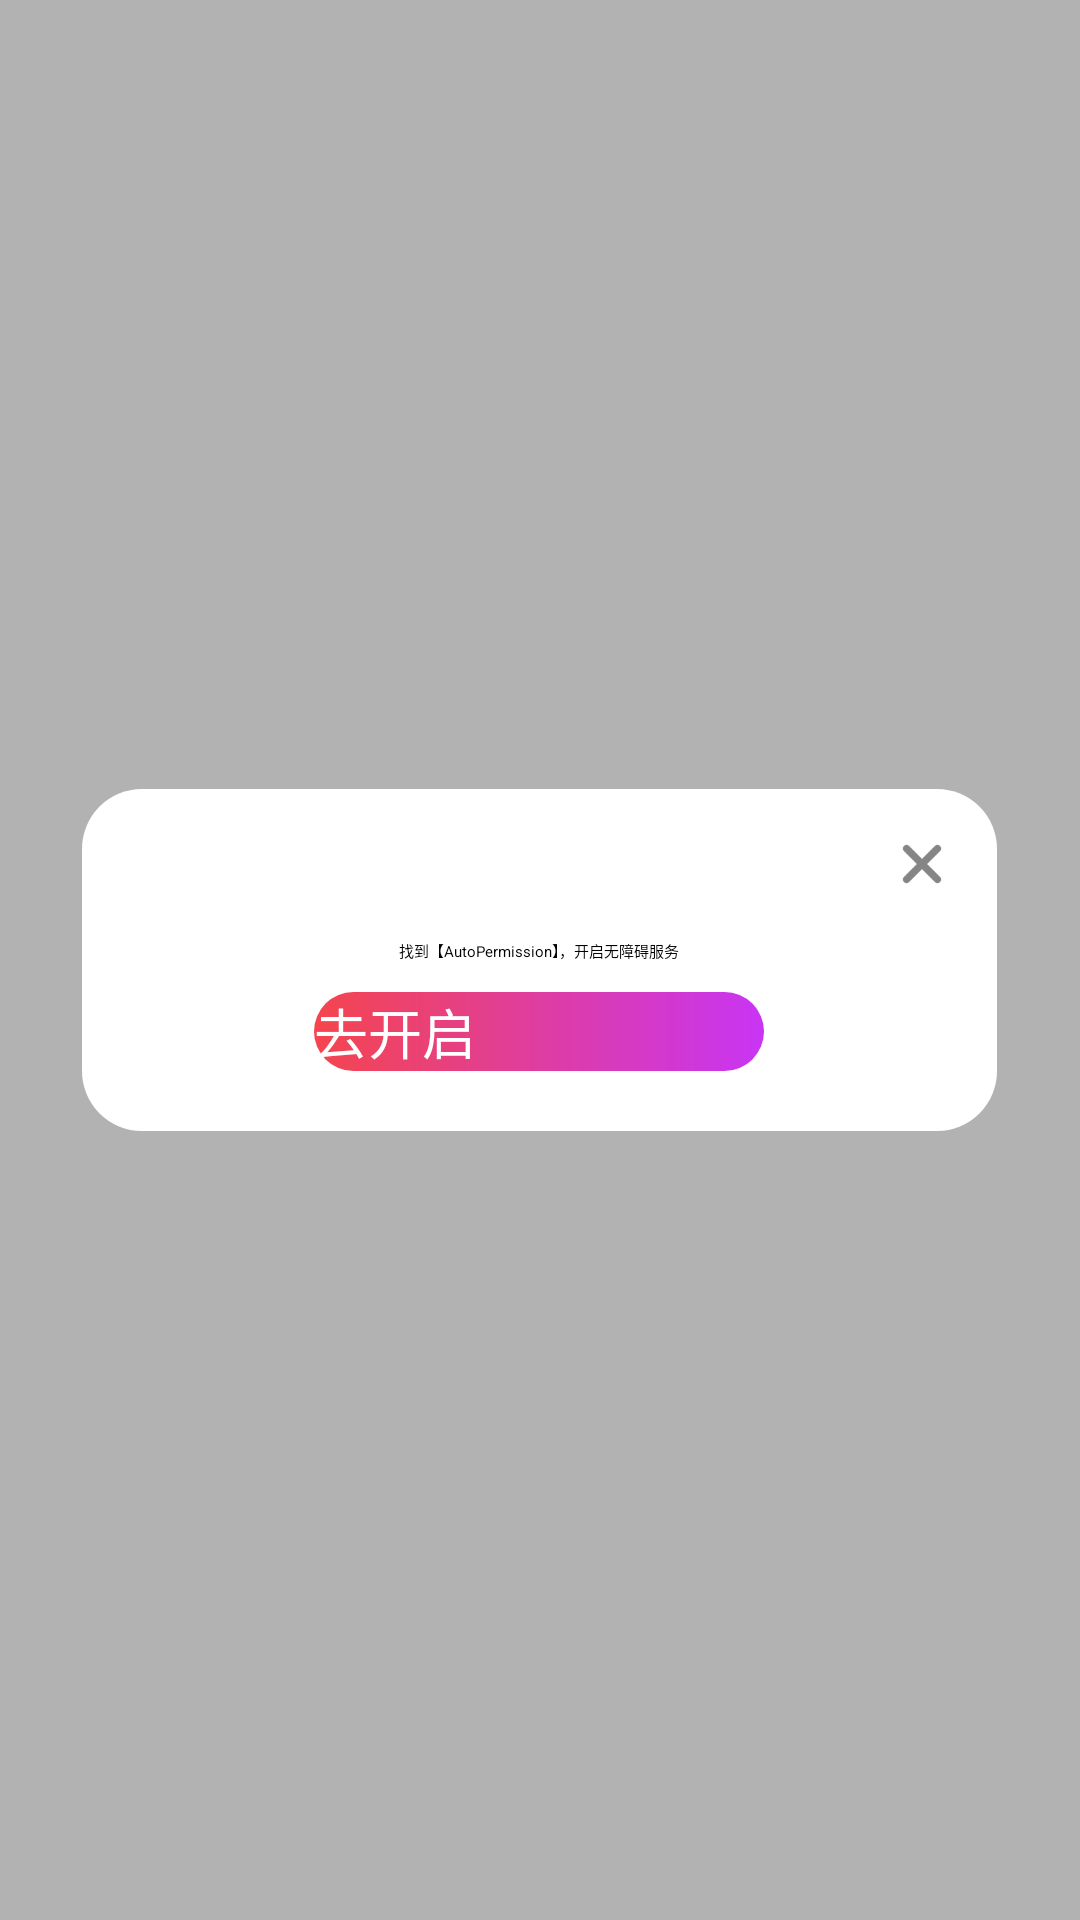

Icon click points for this 1080w x 1920h phone screenshot, format point (x, y):
close: point (922, 864)
